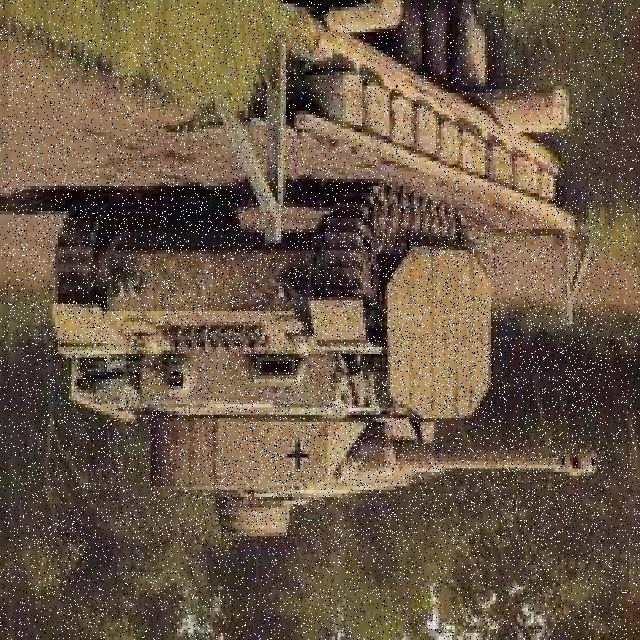MIL_MBT: (47, 206, 601, 545)
